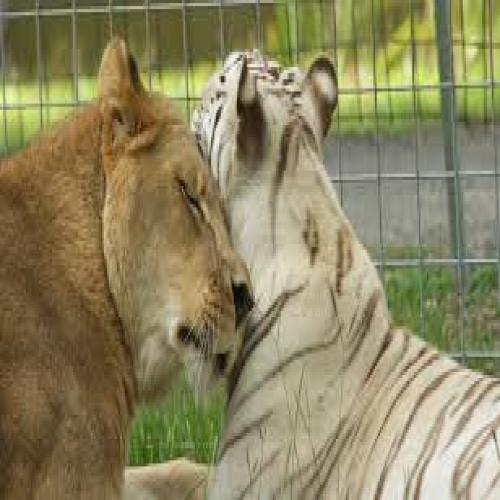lion-endangered: (0, 52, 250, 500)
